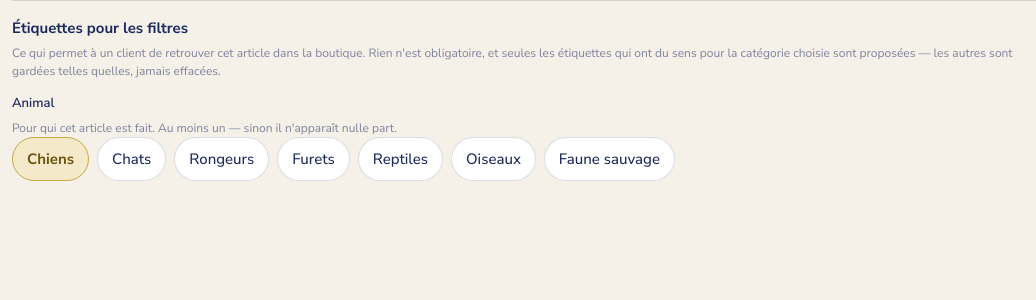
Test: « Espèce » suit l'animal, et rien d'autre (APP 31 bis) › et la perte est ANNONCÉE, jamais silencieuse
Click the button "Rongeurs".
click(222, 159)  # box [174, 137, 269, 181]
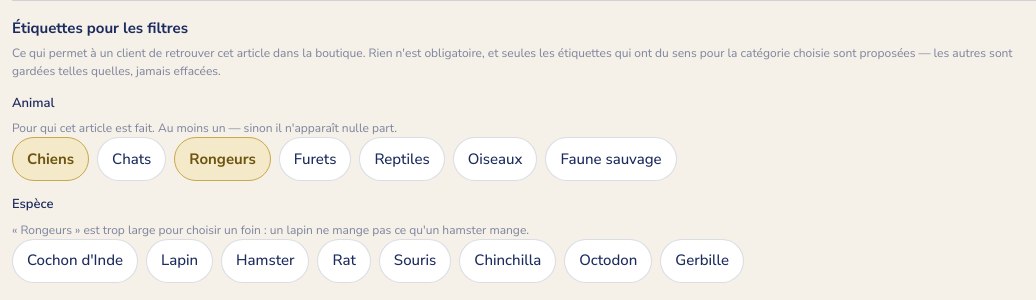
Click the button "Lapin".
click(180, 260)  # box [146, 238, 213, 282]
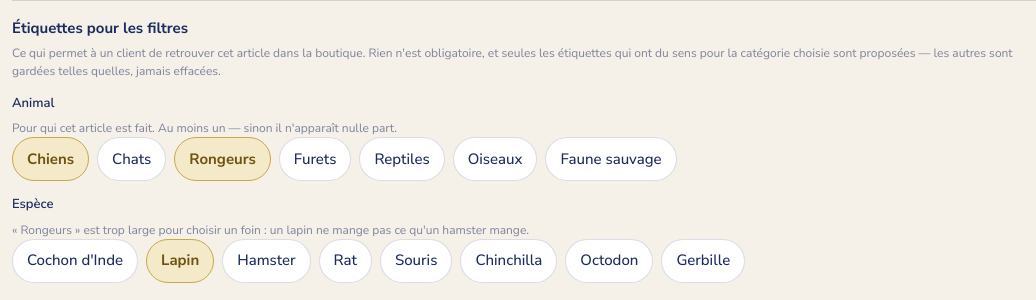
Click the button "Rongeurs".
click(223, 159)  # box [174, 137, 271, 181]
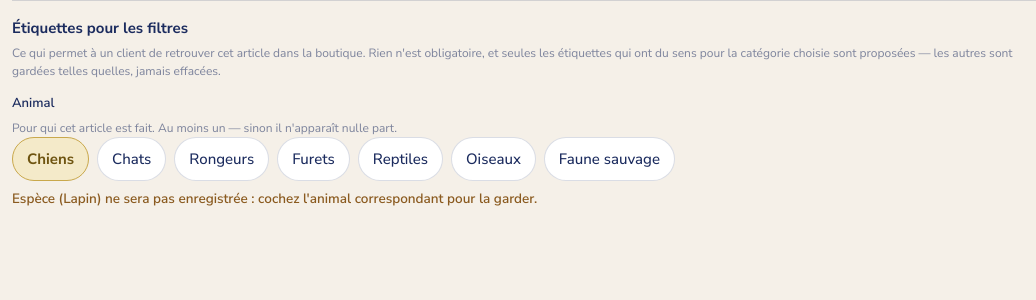
Result: the message shows "Espèce" at [12, 189, 55, 208]
Result: the message shows "Lapin" at [63, 189, 97, 208]
Result: the message shows "ne sera pas" at [97, 189, 537, 208]
